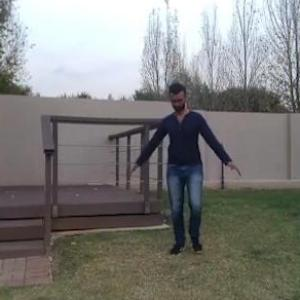land: (126, 79, 232, 265)
